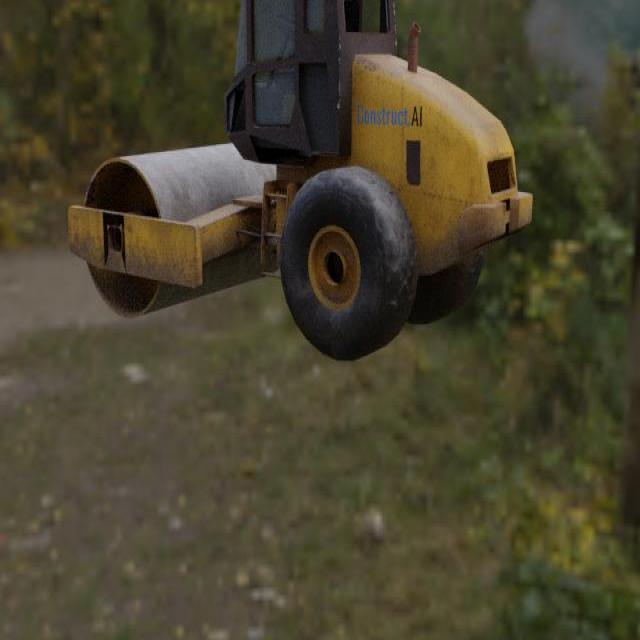Roller: (67, 0, 533, 363)
